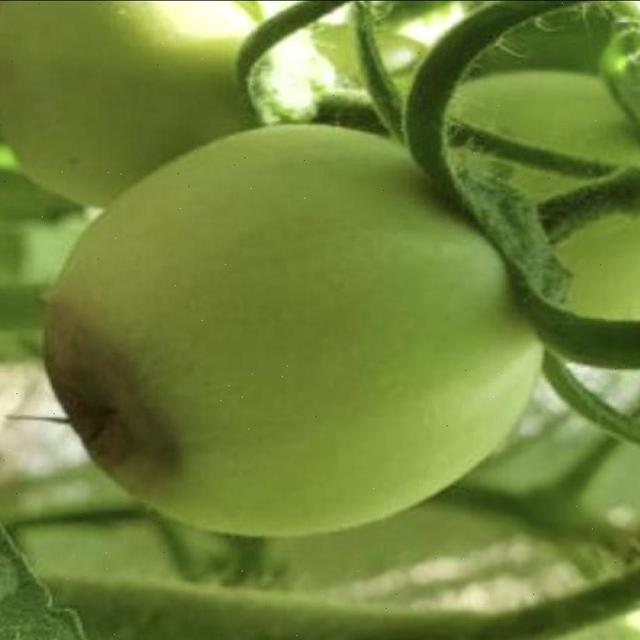Blossom End Rot Fruit: (0, 201, 144, 337)
